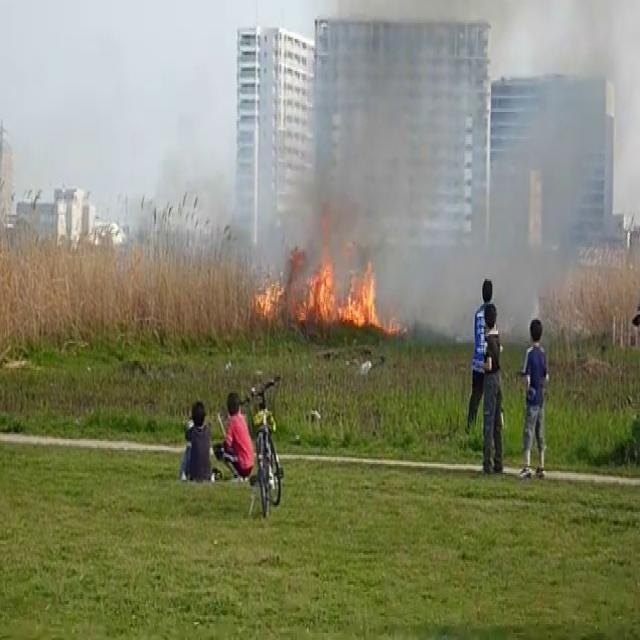Fire: (297, 252, 381, 338)
Smoke: (267, 0, 640, 315)
